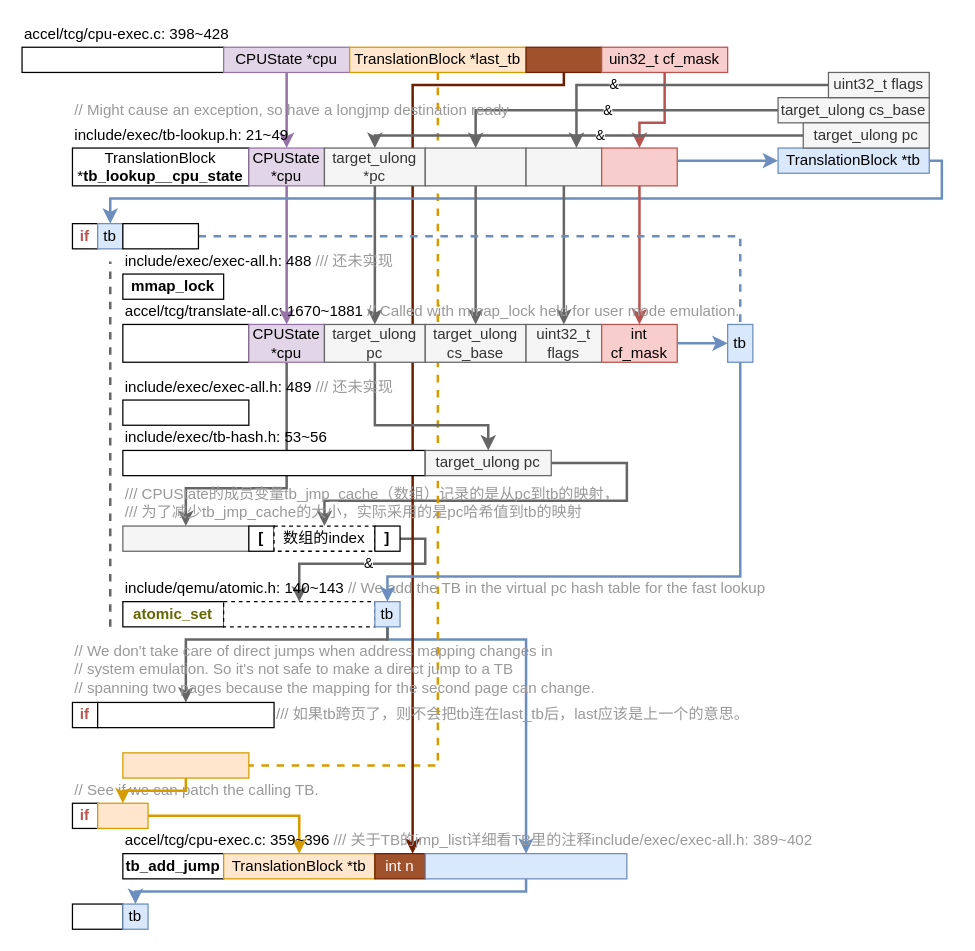
Some shapes in this 975 by 951 pixel diagram are drawn without their labels. The shapes that lost their labels are listed below. From the top down, each one's centre as x and y in pixels, then its label:
(x=122, y=59): TranslationBlock * tb_find
(x=563, y=59): int tb_exit
(x=475, y=166): target_ulong *cs_base
(x=563, y=166): uint32_t *flags
(x=638, y=166): uint32_t cf_mask
(x=160, y=235): == NULL
(x=185, y=342): TranslationBlock * tb_gen_code
(x=185, y=412): mmap_unlock
(x=273, y=462): unsigned int tb_jmp_cache_hash_func
(x=185, y=538): tb_jmp_cache
(x=298, y=613): 存tb（指针）的地方
(x=185, y=714): tb->page_addr[1] != -1
(x=185, y=765): last_tb = NULL
(x=122, y=815): last_tb
(x=525, y=865): TranslationBlock *tb_next
(x=97, y=916): return
